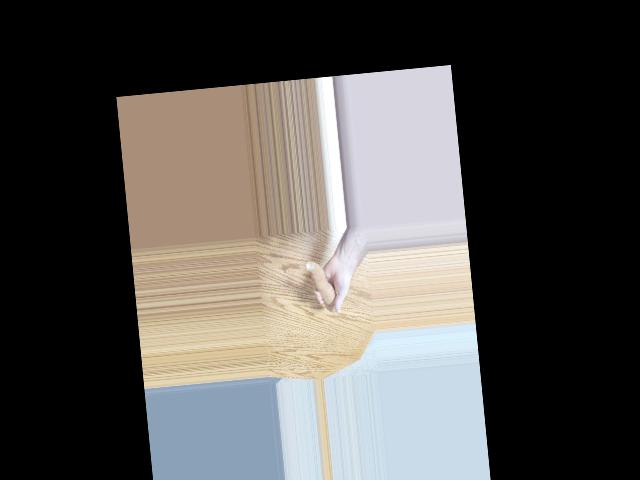sweet_potato: (306, 256, 339, 313)
